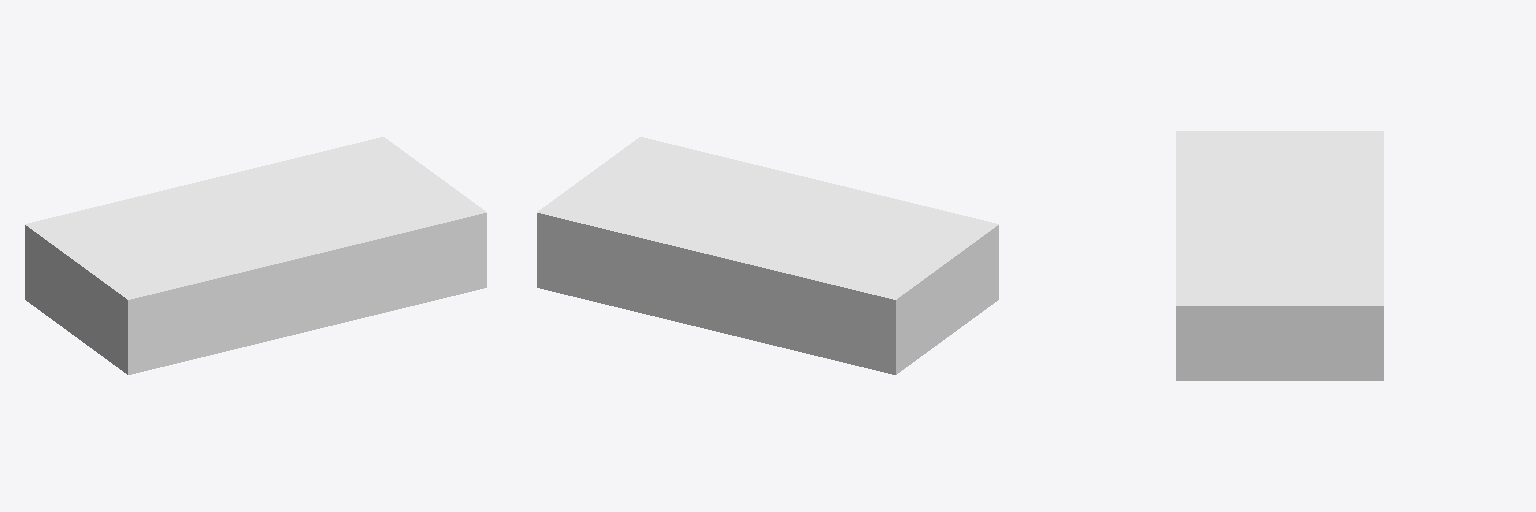
File: platform1.obj
3 renders of one model, left to right at view 1: azimuth 30°, elevation 25°; view 2: azimuth 150°, elevation 25°; view 3: azimuth 270°, elevation 25°, orthographic.
Visible parts, largest first — view 1: platform1; view 2: platform1; view 3: platform1.
Part boxes in pixels (x1,y1,x2,y2): platform1: (25, 137, 486, 374); platform1: (537, 137, 998, 374); platform1: (1176, 131, 1383, 380).
Size of the model in its own units: 10 by 2 by 5.